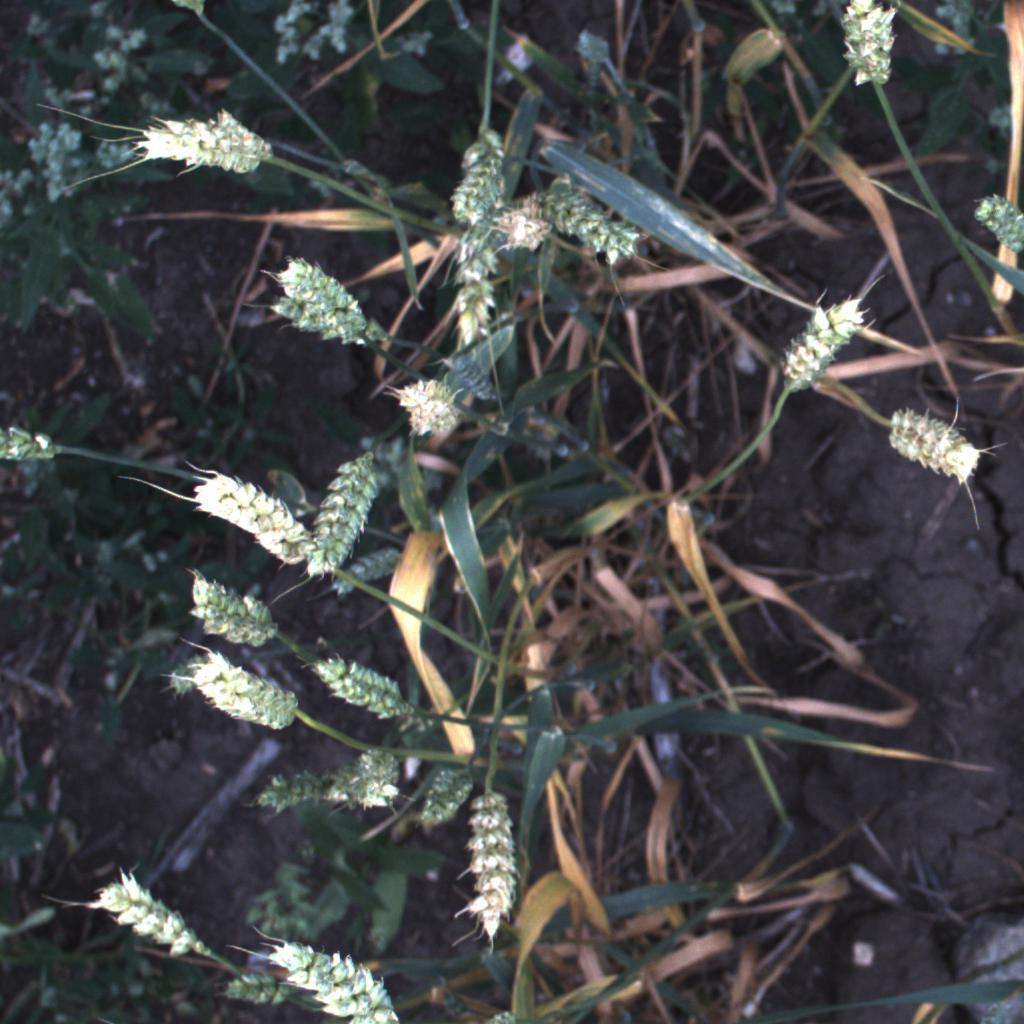0-0: (299, 421, 402, 598), (252, 924, 423, 1024), (185, 464, 322, 578), (84, 862, 224, 965), (516, 172, 649, 275), (769, 281, 877, 402), (169, 646, 309, 739), (456, 785, 528, 953), (267, 248, 372, 345), (307, 642, 424, 729), (445, 219, 510, 371), (880, 397, 988, 487), (178, 569, 284, 653), (243, 764, 413, 815), (831, 0, 907, 97), (446, 118, 509, 229), (262, 299, 397, 348), (136, 126, 278, 171), (0, 407, 76, 477), (325, 538, 408, 601), (486, 198, 564, 264), (167, 108, 292, 149), (342, 741, 415, 810), (961, 184, 1024, 259), (420, 759, 474, 840), (400, 400, 480, 443), (384, 379, 464, 414)
